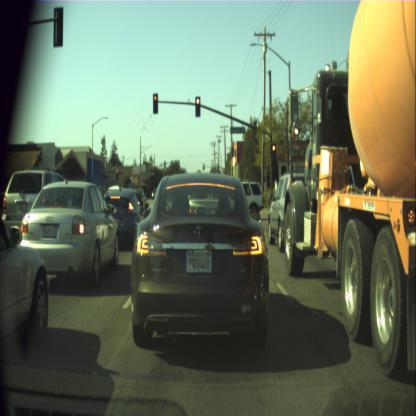Red: (270, 143, 276, 164), (195, 96, 200, 116)
RedLeft: (152, 92, 158, 113)
